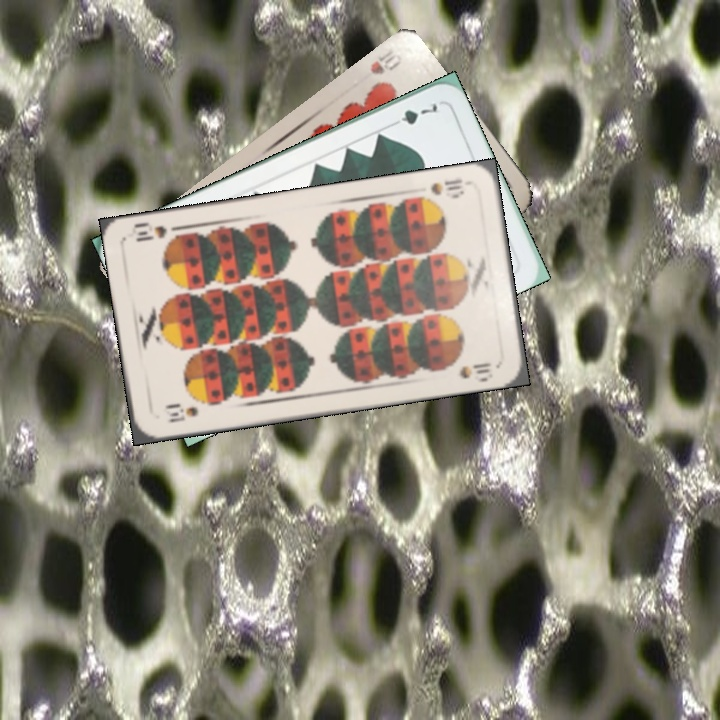G7: (386, 98, 440, 130)
H10: (366, 46, 405, 78)
S10: (426, 175, 467, 199), (162, 402, 201, 426)
